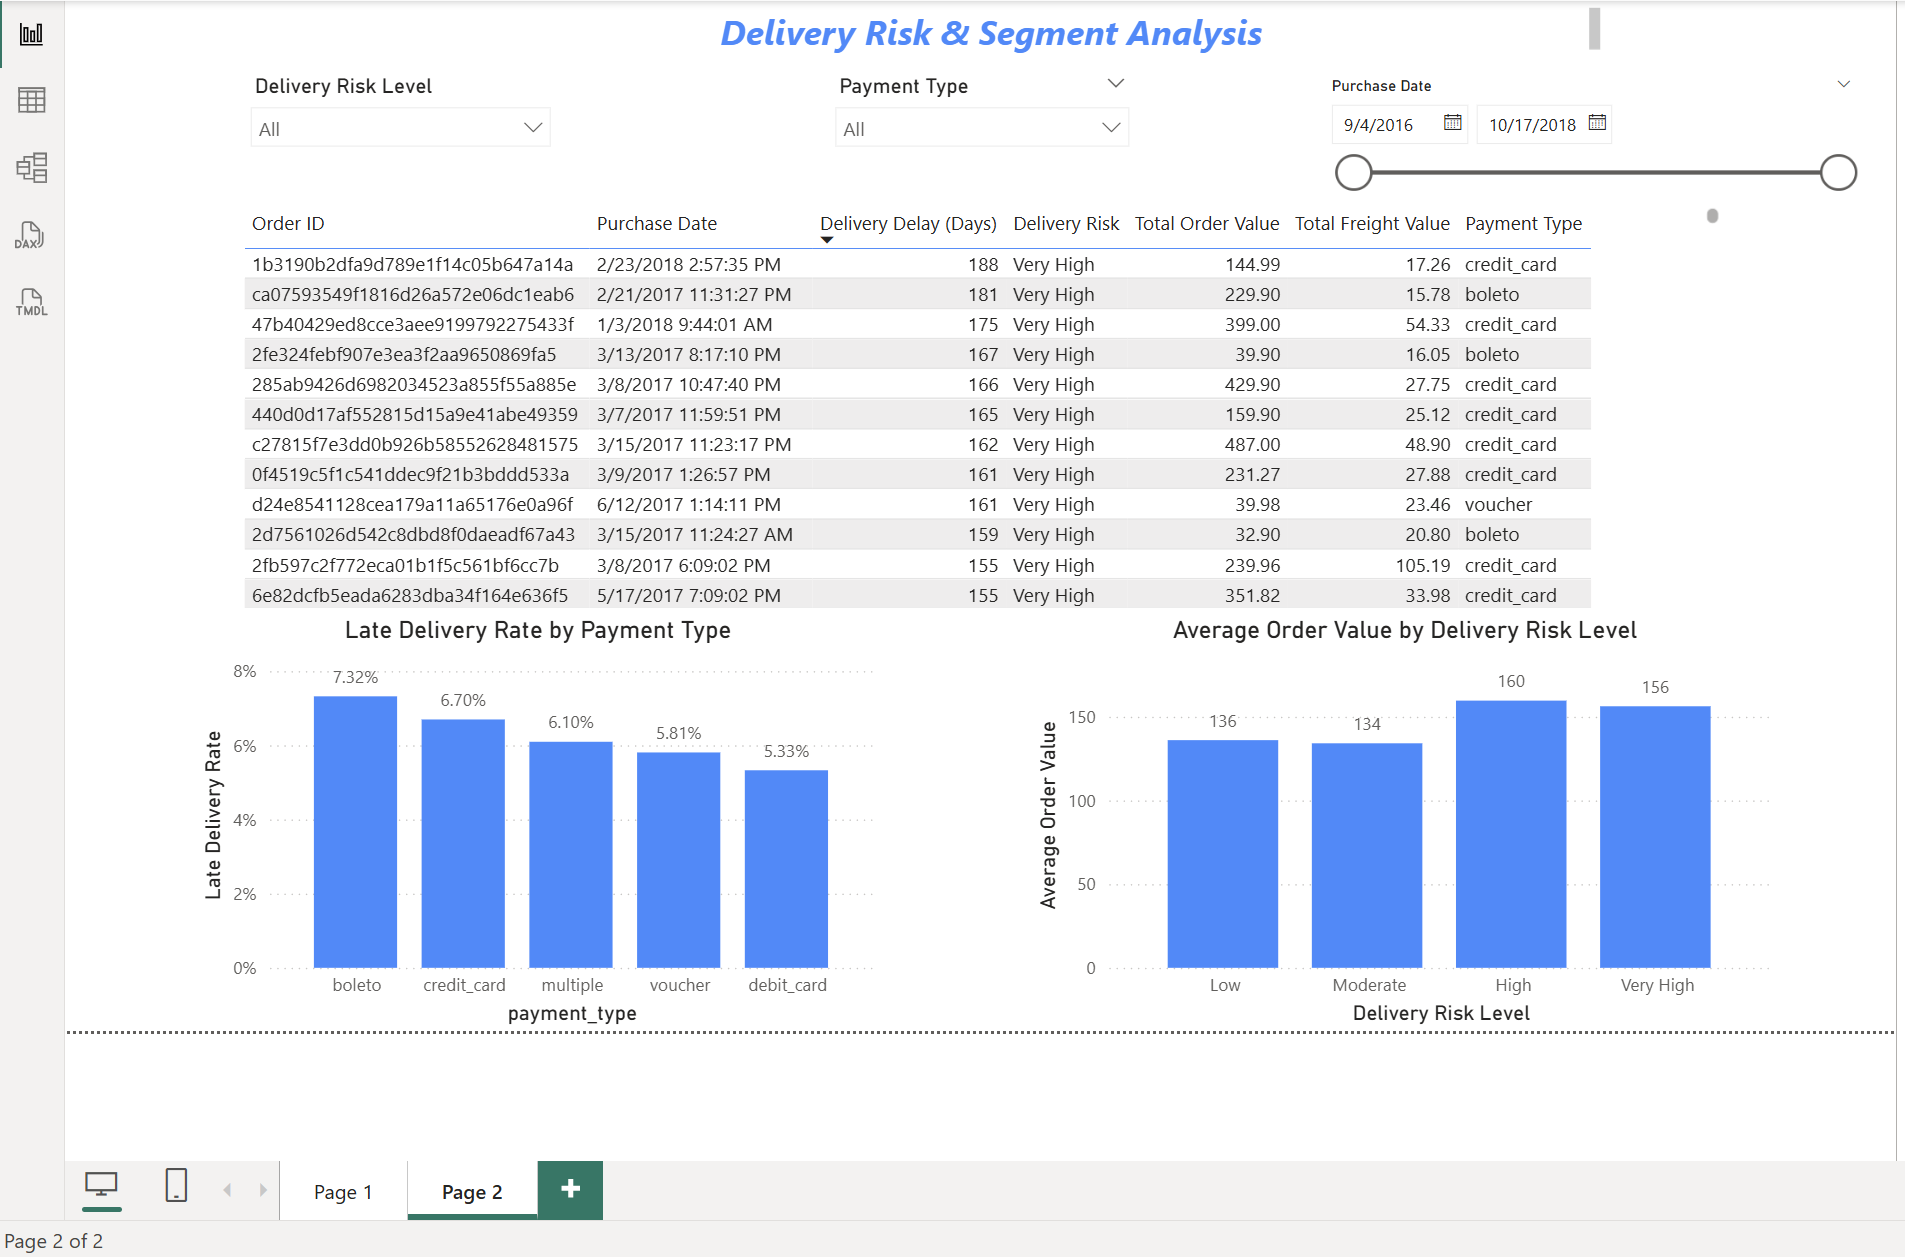

What the dashboard file says about the page in this screenshot:
{"tool":"powerbi","page":{"name":"Page 2","canvas":[1280,720],"ordinal":1},"visuals":[{"type":"clusteredColumnChart","title":"Average Order Value by Delivery Risk Level","fields":{"Category":["final_orders.delivery_risk_level"],"Y":["Avg(final_orders.total_product_value)"]},"box":[674.3,429.6,525.1,290.9],"z":0},{"type":"clusteredColumnChart","title":"Late Delivery Rate by Payment Type","fields":{"Category":["final_orders.payment_type"],"Y":["final_orders.Late %"]},"box":[91,429.6,480.4,290.9],"z":1000},{"type":"tableEx","fields":{"Values":["final_orders.order_id","final_orders.order_purchase_timestamp","final_orders.delivery_delay_days","final_orders.delivery_risk_level","final_orders.total_product_value","final_orders.total_freight_value","final_orders.payment_type"]},"box":[119.4,140.2,1041.3,289.4],"z":2000},{"type":"slicer","title":"Purchase Date","fields":{"Values":["final_orders.order_purchase_timestamp"]},"box":[872.4,48,388.3,91.6],"z":3000},{"type":"slicer","title":"Purchase Date","fields":{"Values":["final_orders.delivery_risk_level"]},"box":[119.3,46.2,229.7,92.5],"z":4000},{"type":"slicer","title":"Purchase Date","fields":{"Values":["final_orders.payment_type"]},"box":[528.1,46.2,225.3,92.5],"z":5000},{"type":"textbox","box":[224,0,853.8,48],"z":6000}]}

Visuals, with their boxes on the page's 1280x720 design canvas (x1, y1, x2, y2). These are canvas units, not pixel positions in the 1905x1257 screenshot, which may show the page scaled, cropped or inside an application window:
"Average Order Value by Delivery Risk Level" clusteredColumnChart: x1=674 y1=430 x2=1199 y2=720
"Late Delivery Rate by Payment Type" clusteredColumnChart: x1=91 y1=430 x2=571 y2=720
tableEx - final_orders.order_id x final_orders.order_purchase_timestamp: x1=119 y1=140 x2=1161 y2=430
"Purchase Date" slicer: x1=872 y1=48 x2=1261 y2=140
"Purchase Date" slicer: x1=119 y1=46 x2=349 y2=139
"Purchase Date" slicer: x1=528 y1=46 x2=753 y2=139
textbox: x1=224 y1=0 x2=1078 y2=48
